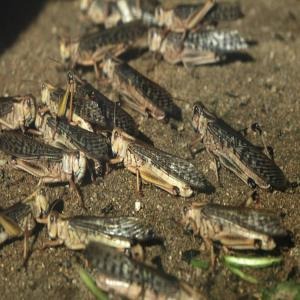locust: (192, 93, 300, 195), (182, 196, 300, 272), (45, 190, 160, 250), (112, 119, 193, 195), (101, 45, 175, 122)
